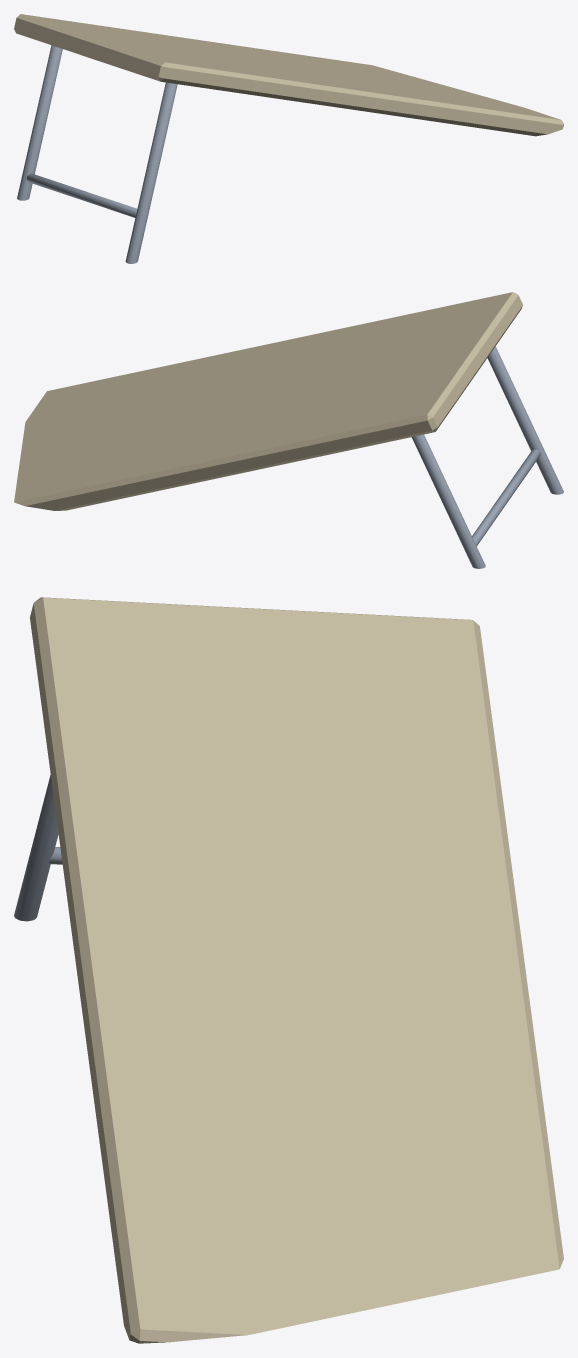
Rendered from noclipped_folding_table.obj.
The picture shows the model from 3 angles, top to bottom: view 1: azimuth 30°, elevation 25°; view 2: azimuth 150°, elevation 25°; view 3: azimuth 270°, elevation 25°; orthographic projection. The views are drawn at different scales.
Visible parts, largest first — view 1: Top, LegB_-0.3, LegF_-0.3, Cross_-0.3; view 2: Top, LegB_-0.3, LegF_-0.3, Cross_-0.3; view 3: Top, LegB_-0.3.
Part boxes in pixels (bbox=[...]): Top: bbox=[14, 14, 563, 136]; LegB_-0.3: bbox=[125, 82, 177, 263]; LegF_-0.3: bbox=[17, 45, 62, 200]; Cross_-0.3: bbox=[26, 173, 137, 217]; Top: bbox=[14, 292, 522, 510]; LegB_-0.3: bbox=[487, 346, 563, 494]; LegF_-0.3: bbox=[411, 434, 485, 568]; Cross_-0.3: bbox=[472, 449, 540, 545]; Top: bbox=[30, 597, 563, 1343]; LegB_-0.3: bbox=[14, 775, 58, 921].
Size of the model in its own units: 1.96 by 0.7194 by 1.01.
